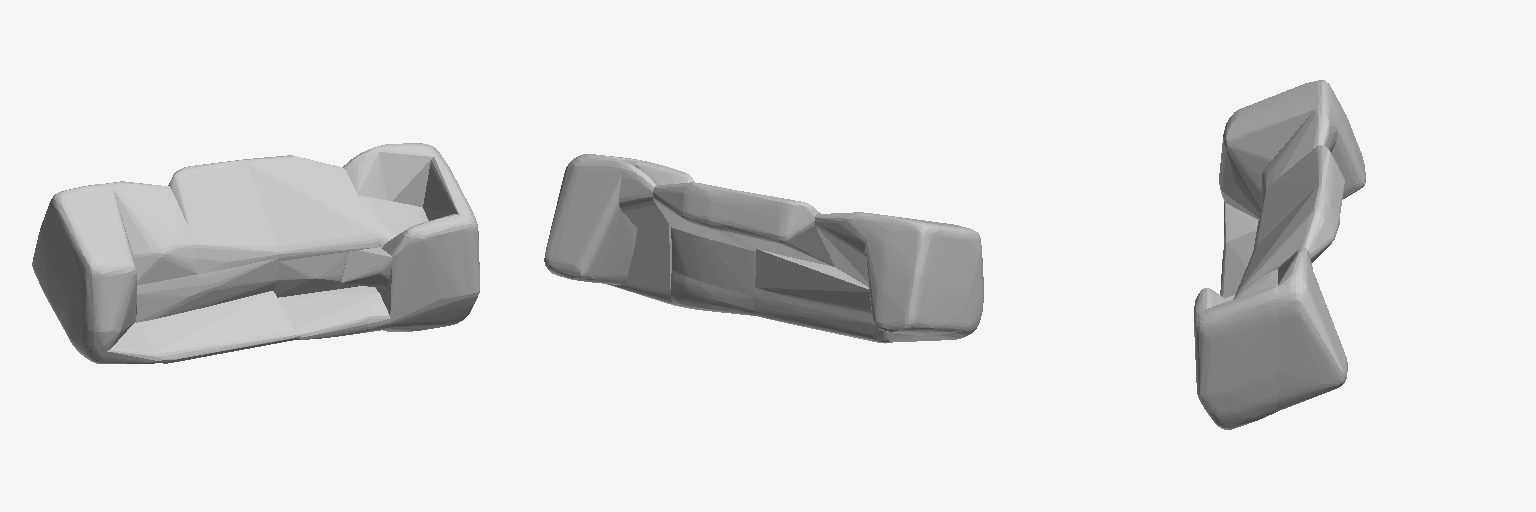
Rendered from 0_decomposed.obj.
3 views of the same model, side by side, from view 1: azimuth 30°, elevation 25°; view 2: azimuth 150°, elevation 25°; view 3: azimuth 270°, elevation 25° (orthographic).
Visible parts, largest first — view 1: geometry_2, geometry_1, geometry_7, geometry_13, geometry_8, geometry_6, geometry_4, geometry_5, geometry_10, geometry_9, geometry_12, geometry_14 (+3 smaller); view 2: geometry_2, geometry_9, geometry_7, geometry_4, geometry_1, geometry_12, geometry_8, geometry_14, geometry_6, geometry_5, geometry_3, geometry_13 (+1 smaller); view 3: geometry_10, geometry_2, geometry_9, geometry_1, geometry_7, geometry_6, geometry_8, geometry_0.
Part boxes in pixels (left/top/right/bottom): geometry_2: left=32, top=183, right=136, bottom=351; geometry_1: left=244, top=155, right=379, bottom=260; geometry_7: left=168, top=159, right=279, bottom=273; geometry_13: left=380, top=214, right=464, bottom=331; geometry_8: left=137, top=291, right=296, bottom=363; geometry_6: left=109, top=181, right=197, bottom=284; geometry_4: left=135, top=258, right=278, bottom=322; geometry_5: left=278, top=286, right=389, bottom=339; geometry_10: left=423, top=156, right=479, bottom=324; geometry_9: left=377, top=143, right=443, bottom=207; geometry_12: left=273, top=252, right=358, bottom=297; geometry_14: left=359, top=196, right=428, bottom=331; geometry_2: left=865, top=214, right=983, bottom=335; geometry_9: left=544, top=154, right=637, bottom=284; geometry_7: left=728, top=191, right=834, bottom=266; geometry_4: left=755, top=249, right=872, bottom=321; geometry_1: left=653, top=182, right=755, bottom=251; geometry_12: left=671, top=227, right=755, bottom=296; geometry_8: left=754, top=287, right=891, bottom=343; geometry_14: left=607, top=218, right=674, bottom=305; geometry_6: left=814, top=212, right=872, bottom=286; geometry_5: left=671, top=270, right=754, bottom=315; geometry_3: left=619, top=163, right=664, bottom=227; geometry_13: left=636, top=160, right=694, bottom=184; geometry_10: left=1194, top=285, right=1277, bottom=429; geometry_2: left=1219, top=80, right=1365, bottom=219; geometry_9: left=1278, top=251, right=1347, bottom=410; geometry_1: left=1236, top=183, right=1340, bottom=293; geometry_7: left=1253, top=145, right=1344, bottom=250; geometry_6: left=1261, top=107, right=1336, bottom=206; geometry_8: left=1220, top=230, right=1256, bottom=297; geometry_0: left=1224, top=202, right=1258, bottom=244.
Bounding box in the file's own units: 0.2429 × 0.1088 × 0.0935.